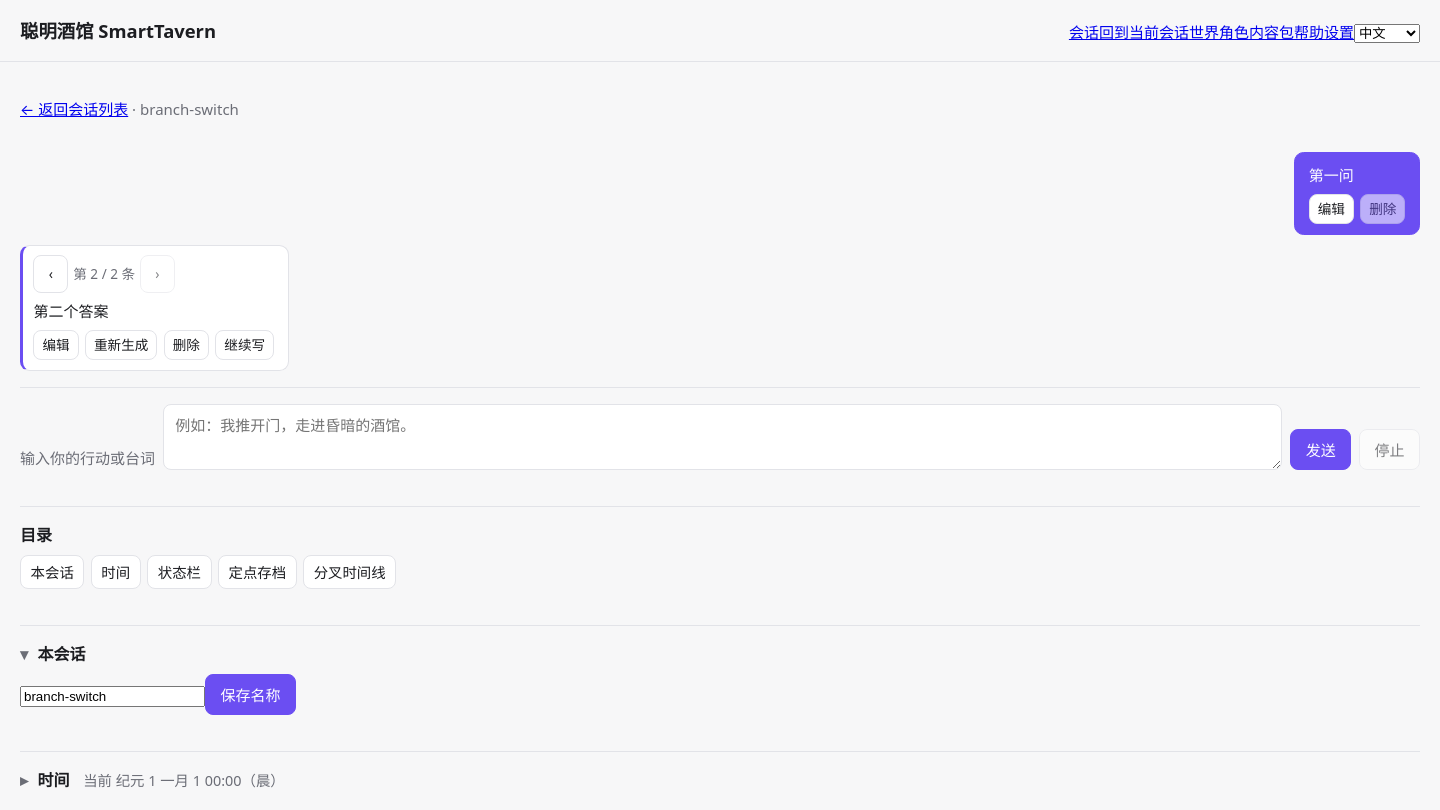
Test: M1-S2: the message stream › switches between the siblings in both directions, in the DOM and in the row
Expected: the button named "下一条" is disabled, [140,255,175,293]
Click the button named "上一条" at x=51, y=274, box [33,255,68,293]
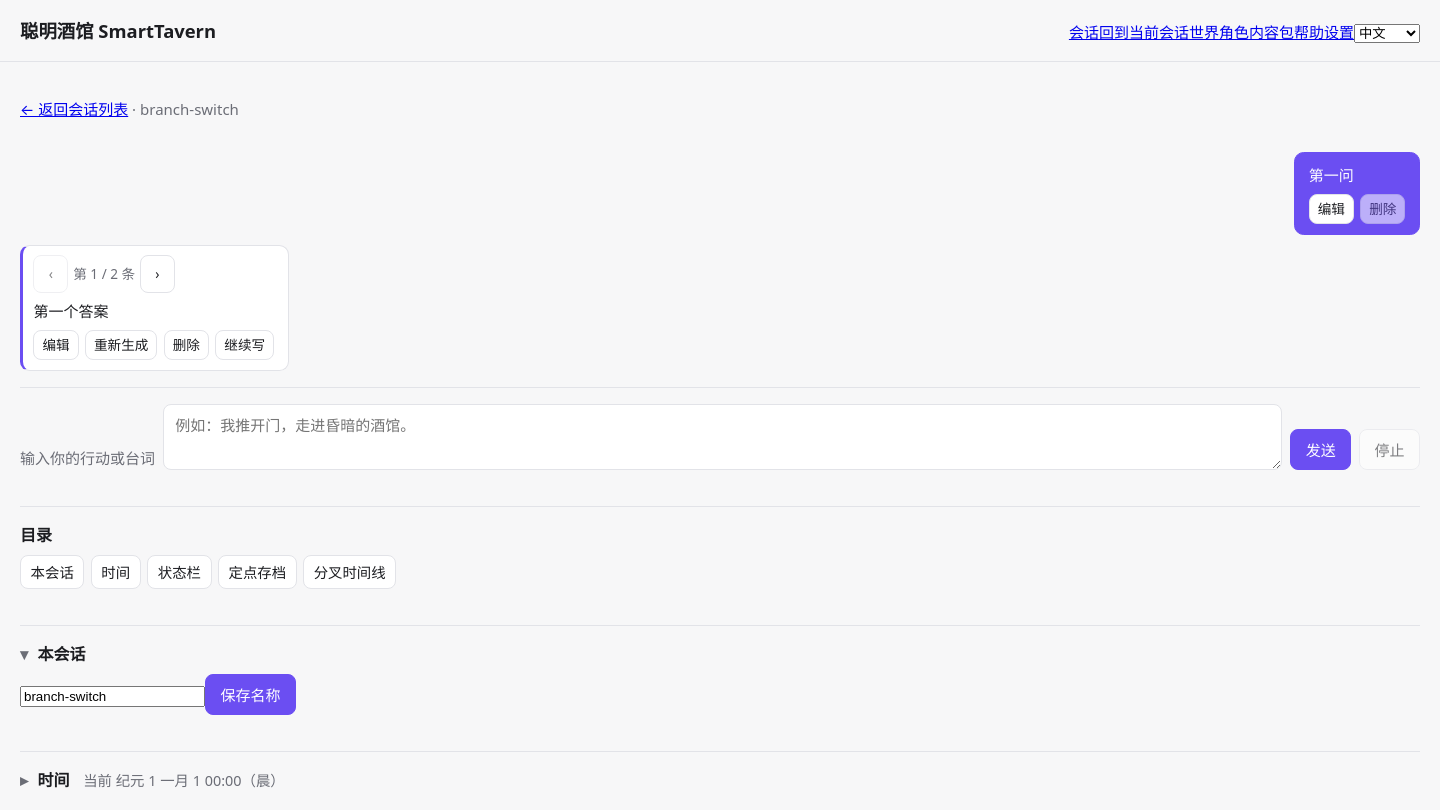
Expected: the text "第二个答案" is gone
Click the button named "下一条" at x=157, y=274, box [140,255,175,293]
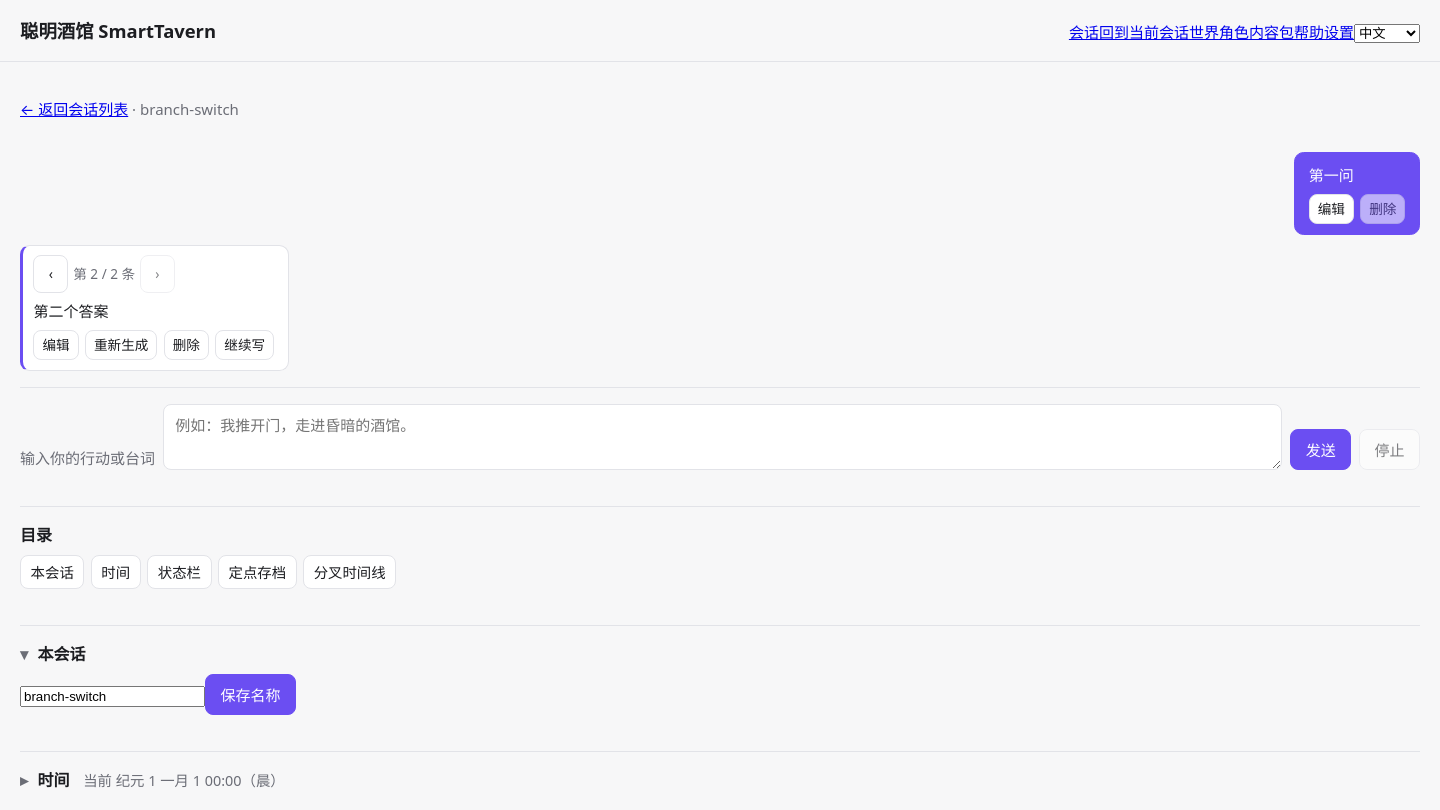
Expected: the text "第一个答案" is gone
